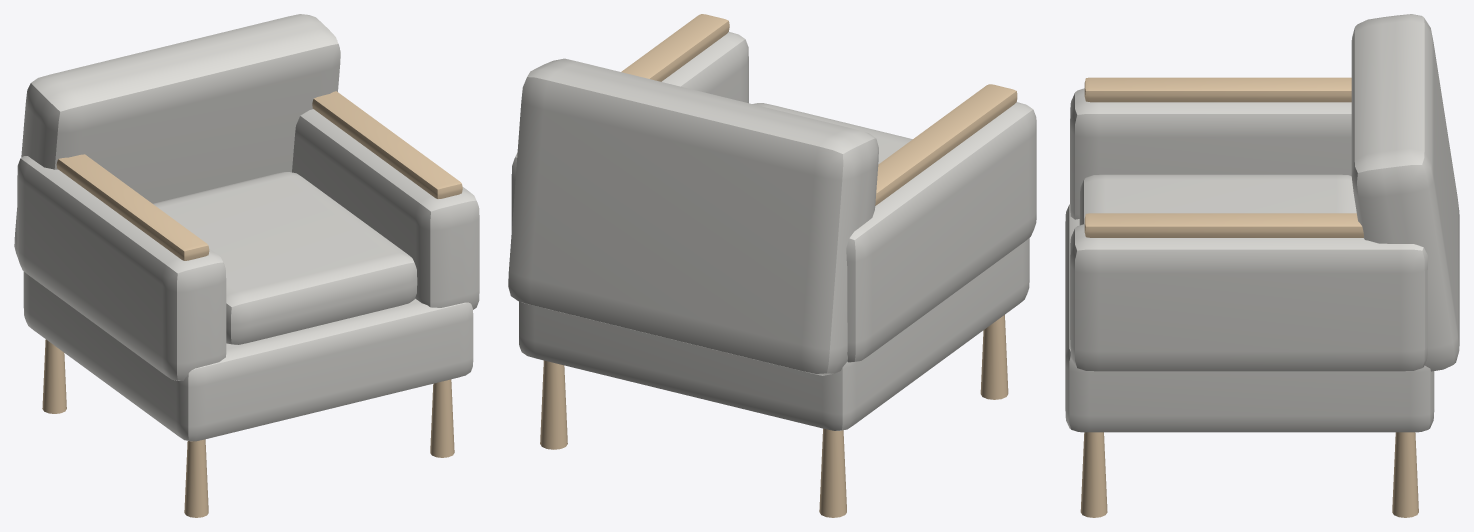
File: armchair.glb
3 renders of one model, left to right at view 1: azimuth 30°, elevation 25°; view 2: azimuth 150°, elevation 25°; view 3: azimuth 270°, elevation 25°, orthographic. The views are drawn at different scales.
Visible parts, largest first — view 1: Cube.005, Cube, Cube.006, Cube.001, Cube.003, Cube.002, Cube.004, Cone.001, Cone.003, Cone; view 2: Cube.005, Cube, Cube.001, Cube.002, Cube.003, Cube.004, Cone, Cone.002, Cone.001, Cube.006; view 3: Cube.003, Cube.005, Cube, Cube.001, Cube.006, Cube.002, Cube.004, Cone.002, Cone.003.
Boxes of the visible parts, left/top/right/bottom form: Cube.005: left=14, top=14, right=340, bottom=256; Cube: left=23, top=271, right=473, bottom=441; Cube.006: left=153, top=172, right=417, bottom=344; Cube.001: left=17, top=156, right=226, bottom=380; Cube.003: left=292, top=109, right=479, bottom=309; Cube.002: left=56, top=154, right=209, bottom=260; Cube.004: left=312, top=91, right=462, bottom=198; Cone.001: left=184, top=439, right=208, bottom=517; Cone.003: left=430, top=379, right=454, bottom=457; Cone: left=42, top=339, right=66, bottom=413; Cube.005: left=508, top=58, right=878, bottom=375; Cube: left=519, top=238, right=1029, bottom=430; Cube.001: left=846, top=102, right=1036, bottom=362; Cube.002: left=875, top=84, right=1017, bottom=205; Cube.003: left=511, top=32, right=748, bottom=229; Cube.004: left=621, top=14, right=729, bottom=81; Cone: left=819, top=428, right=846, bottom=517; Cone.002: left=540, top=360, right=567, bottom=449; Cone.001: left=980, top=315, right=1008, bottom=399; Cube.006: left=752, top=103, right=912, bottom=164; Cube.003: left=1070, top=224, right=1427, bottom=371; Cube.005: left=1351, top=14, right=1459, bottom=371; Cube: left=1065, top=204, right=1434, bottom=432; Cube.001: left=1070, top=88, right=1351, bottom=219; Cube.006: left=1079, top=174, right=1356, bottom=225; Cube.002: left=1084, top=77, right=1351, bottom=102; Cube.004: left=1084, top=213, right=1363, bottom=237; Cone.002: left=1392, top=432, right=1418, bottom=517; Cone.003: left=1080, top=432, right=1107, bottom=517.
Size of the model in its own units: 0.82 by 0.8332 by 0.8228.
